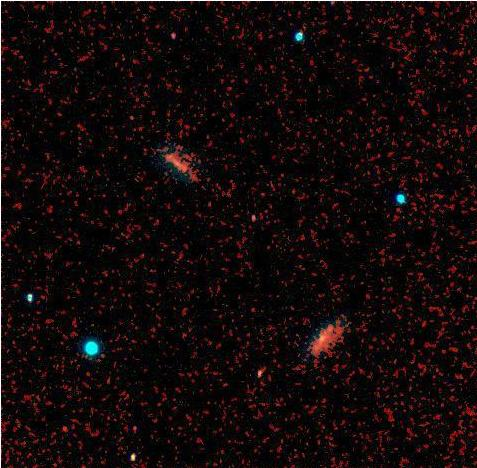star: (168, 153, 198, 183)
